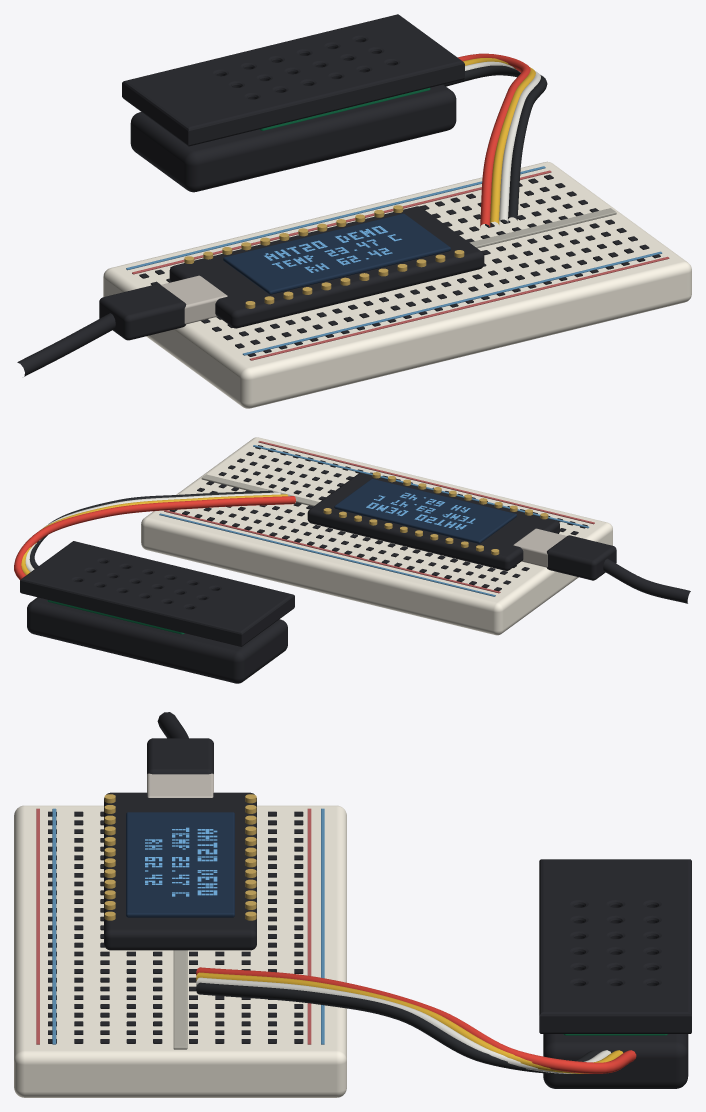
File: sensors-02.glb
3 renders of one model, top to bottom at view 1: azimuth 30°, elevation 25°; view 2: azimuth 150°, elevation 25°; view 3: azimuth 270°, elevation 25°, orthographic. The views are drawn at different scales.
Parts seen in each view (by area): view 1: base, housing, display, host-usb, leads; view 2: base, housing, display, host-usb, leads; view 3: base, housing, display, leads, host-usb.
Boxes of the visible parts, <box> form: base: <box>103,161,691,408</box>; housing: <box>122,14,464,192</box>; display: <box>169,205,484,328</box>; host-usb: <box>17,275,227,376</box>; leads: <box>443,53,547,227</box>; base: <box>141,437,612,635</box>; housing: <box>20,541,294,683</box>; display: <box>307,472,559,570</box>; host-usb: <box>513,528,690,603</box>; leads: <box>14,490,295,579</box>; base: <box>14,805,346,1097</box>; housing: <box>539,859,691,1088</box>; display: <box>104,792,256,950</box>; leads: <box>196,967,636,1073</box>; host-usb: <box>147,712,213,797</box>.
Size of the model in its own units: 3.29 by 0.3799 by 2.52.
